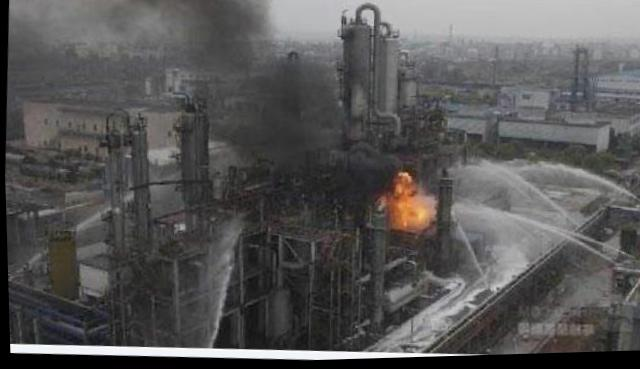fire: (392, 194, 435, 230), (396, 170, 418, 196)
smoke: (8, 0, 274, 57)
